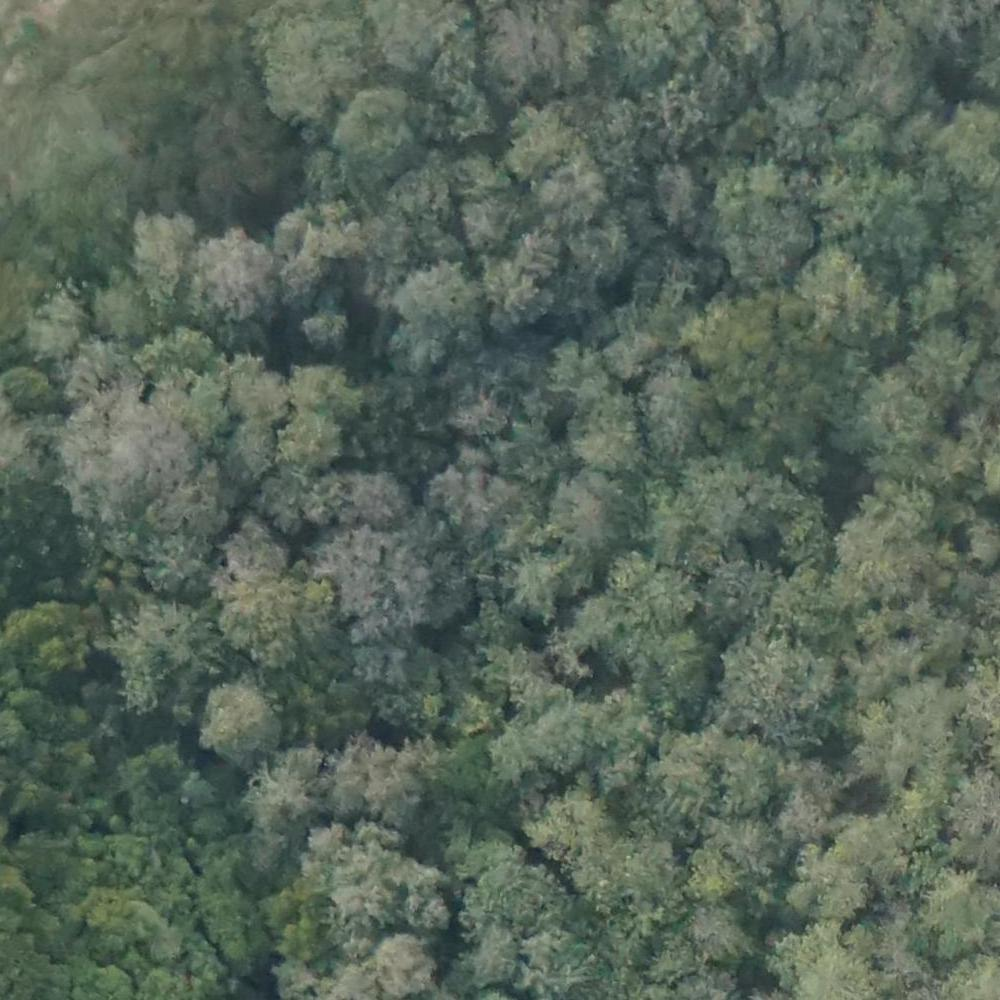tree: (63, 380, 208, 529), (109, 588, 211, 715), (246, 751, 353, 869), (211, 556, 329, 655), (329, 532, 435, 627), (392, 263, 480, 367), (351, 731, 442, 829), (188, 229, 280, 321), (554, 476, 638, 571), (118, 211, 216, 292), (331, 88, 419, 175), (629, 633, 718, 719), (789, 837, 869, 923), (637, 366, 706, 465), (706, 561, 787, 645), (196, 678, 277, 761), (534, 791, 613, 876), (926, 862, 1000, 950), (503, 542, 576, 621), (144, 529, 225, 600), (573, 393, 643, 472), (907, 327, 982, 399), (494, 412, 571, 482), (707, 738, 777, 812), (272, 414, 348, 480), (96, 269, 161, 345), (676, 910, 757, 969), (381, 158, 452, 225), (537, 163, 604, 232), (678, 852, 749, 913), (783, 753, 855, 809), (153, 476, 223, 532), (644, 159, 703, 225), (225, 521, 282, 584), (642, 567, 705, 623), (553, 339, 614, 396), (356, 467, 411, 530), (499, 274, 556, 332), (903, 272, 964, 326), (374, 930, 425, 994), (290, 304, 353, 355), (611, 551, 675, 600)
